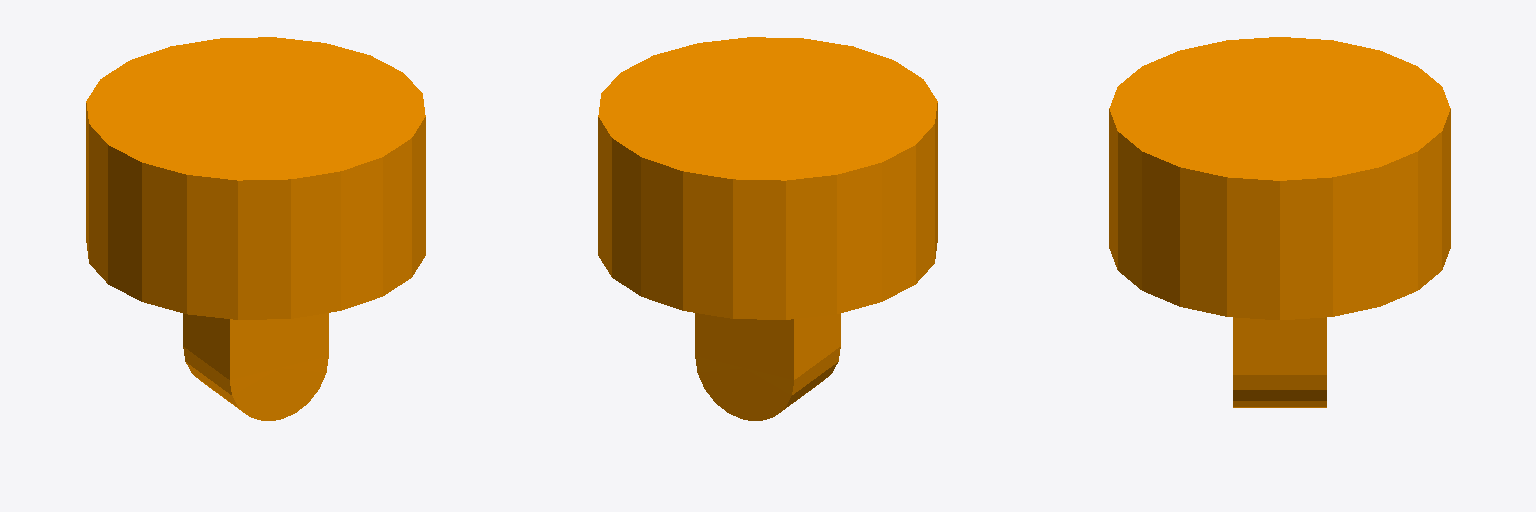
File: botBody.obj
The picture shows the model from 3 angles: view 1: azimuth 30°, elevation 25°; view 2: azimuth 150°, elevation 25°; view 3: azimuth 270°, elevation 25°; orthographic projection.
Visible parts, largest first — view 1: pCube3; view 2: pCube3; view 3: pCube3.
Boxes of the visible parts, x1=… form: pCube3: x1=86, y1=37, x2=425, y2=420; pCube3: x1=598, y1=37, x2=937, y2=420; pCube3: x1=1109, y1=37, x2=1450, y2=407.
Bounding box in the file's own units: 10.93 × 10.4 × 10.93.